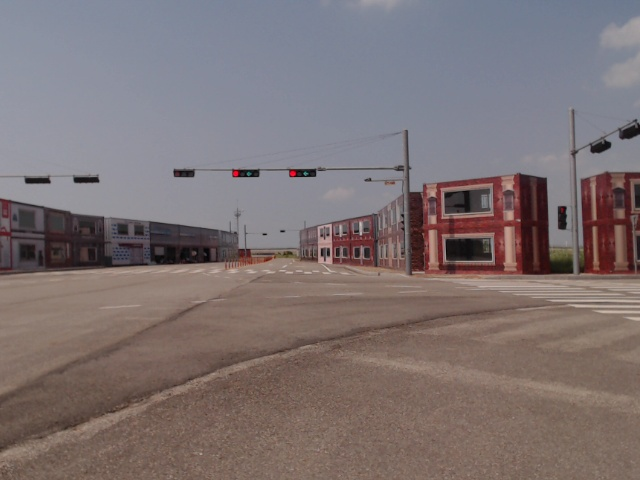left_green_4: (232, 170, 260, 177), (289, 170, 317, 177)
